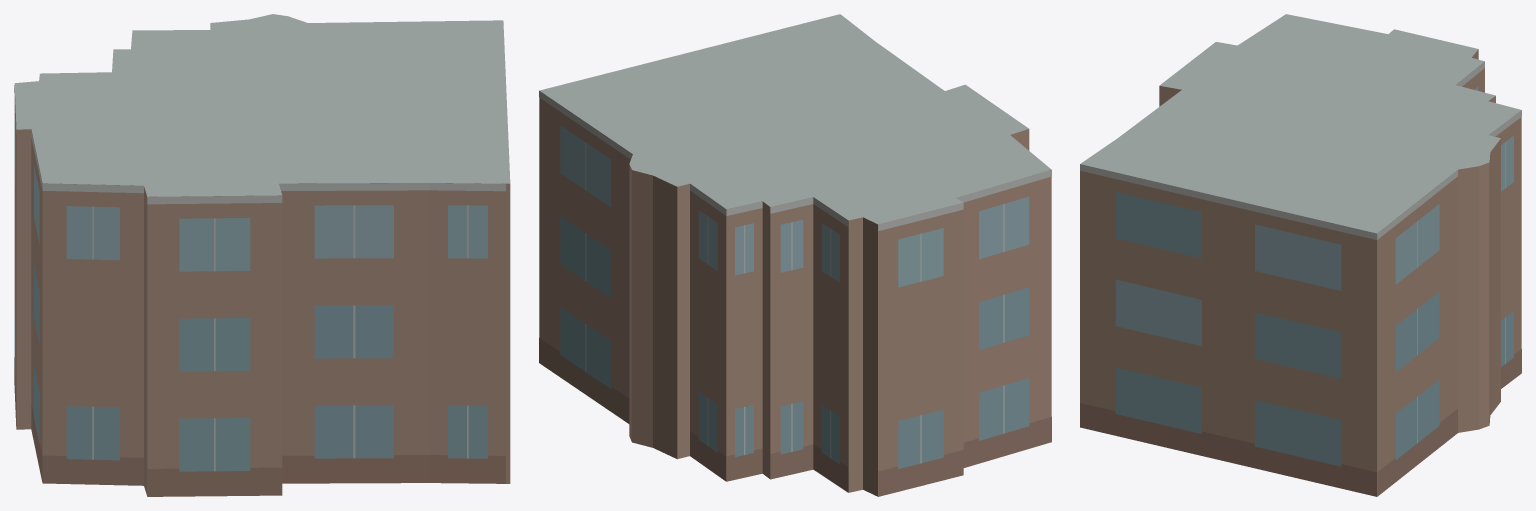
The model's file is survey-upis-32498170.glb.
The picture shows the model from 3 angles, left to right: view 1: azimuth 30°, elevation 25°; view 2: azimuth 150°, elevation 25°; view 3: azimuth 270°, elevation 25°; orthographic projection. The views are drawn at different scales.
Visible parts, largest first — view 1: survey-upis-32498170.tmp; view 2: survey-upis-32498170.tmp; view 3: survey-upis-32498170.tmp.
Boxes of the visible parts, x1,y1,x2,y2 form: survey-upis-32498170.tmp: (14,14,510,496); survey-upis-32498170.tmp: (539,14,1051,496); survey-upis-32498170.tmp: (1080,14,1521,496).
Bounding box in the file's own units: 17.35 × 9.7 × 14.75.
